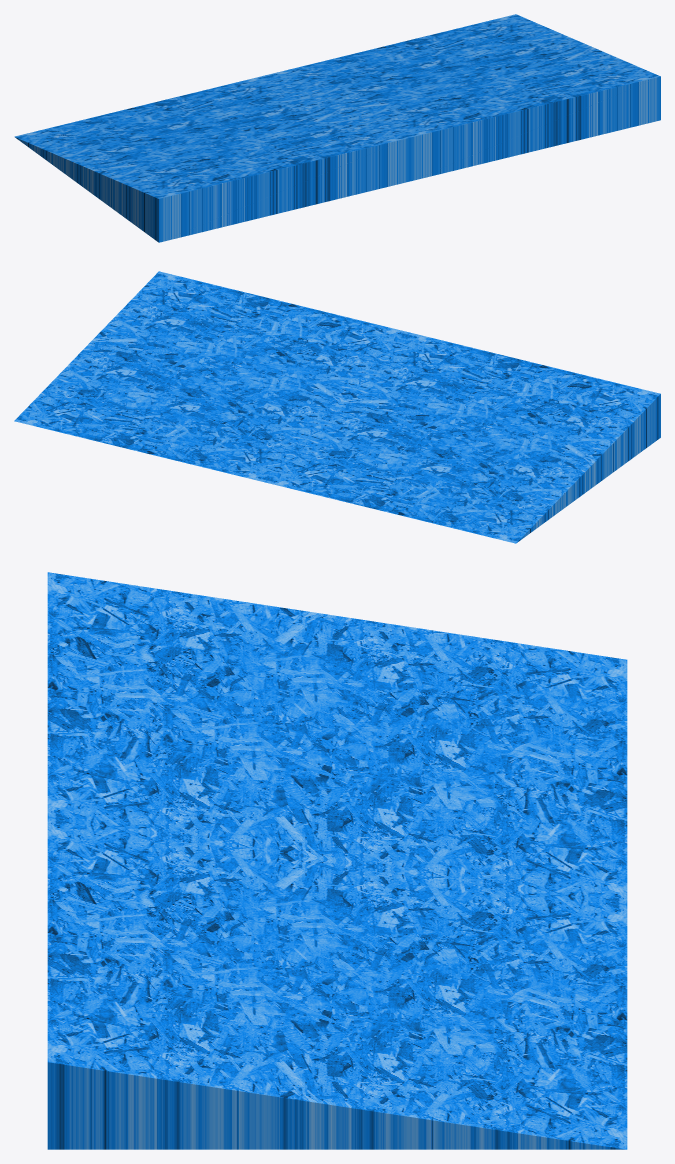
Rendered from AVCRamp.dae.
3 views of the same model, one above another, from view 1: azimuth 30°, elevation 25°; view 2: azimuth 150°, elevation 25°; view 3: azimuth 270°, elevation 25° (orthographic). The views are drawn at different scales.
Visible parts, largest first — view 1: Cube; view 2: Cube; view 3: Cube.
Boxes of the visible parts, x1=… form: Cube: x1=14, y1=14, x2=660, y2=242; Cube: x1=14, y1=271, x2=660, y2=543; Cube: x1=47, y1=572, x2=627, y2=1149.
Bounding box in the file's own units: 2.44 × 1.22 × 0.2032.
1 material, 1 textured.
